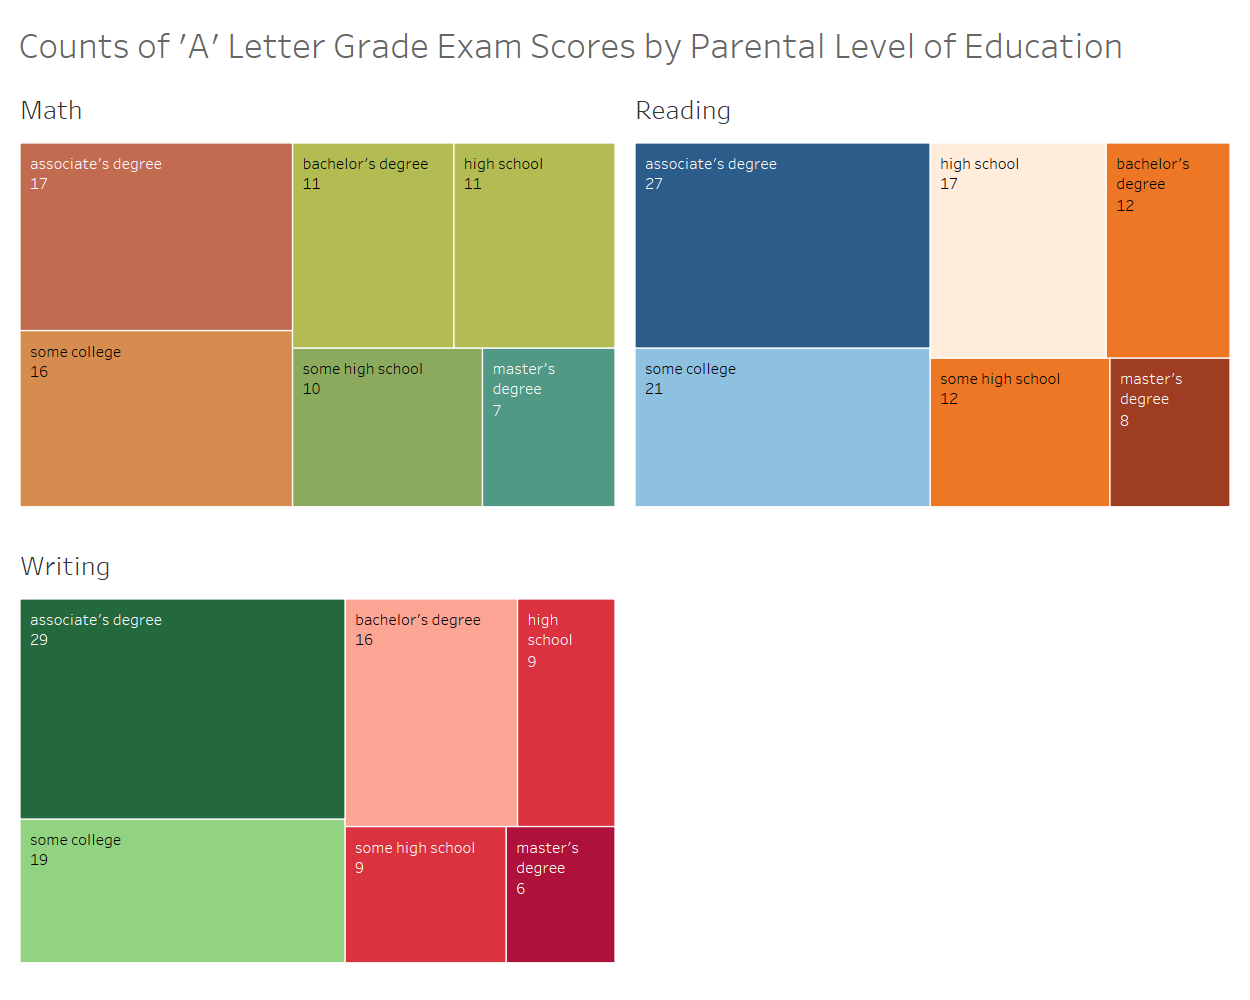

What the dashboard file says about the page in this screenshot:
{"tool":"tableau","page":{"name":"A Letter Grades","canvas":[1000,800],"ordinal":1},"visuals":[{"type":"text","box":[8,8,984,55]},{"type":"worksheet","title":"Math A - Parent","mark":"Automatic","box":[8,63,492,364.5]},{"type":"worksheet","title":"Reading A - Parent","mark":"Automatic","box":[500,63,492,729]},{"type":"worksheet","title":"Writing A - Parent","mark":"Automatic","box":[8,427.5,492,364.5]}]}

Visuals, with their boxes in screenshot pixels (x1, y1, x2, y2), scaled from the page's 1000x800 canvas onto the 1250x1000 screenshot:
text: (x1=10, y1=10, x2=1240, y2=79)
"Math A - Parent" worksheet: (x1=10, y1=79, x2=625, y2=534)
"Reading A - Parent" worksheet: (x1=625, y1=79, x2=1240, y2=990)
"Writing A - Parent" worksheet: (x1=10, y1=534, x2=625, y2=990)
